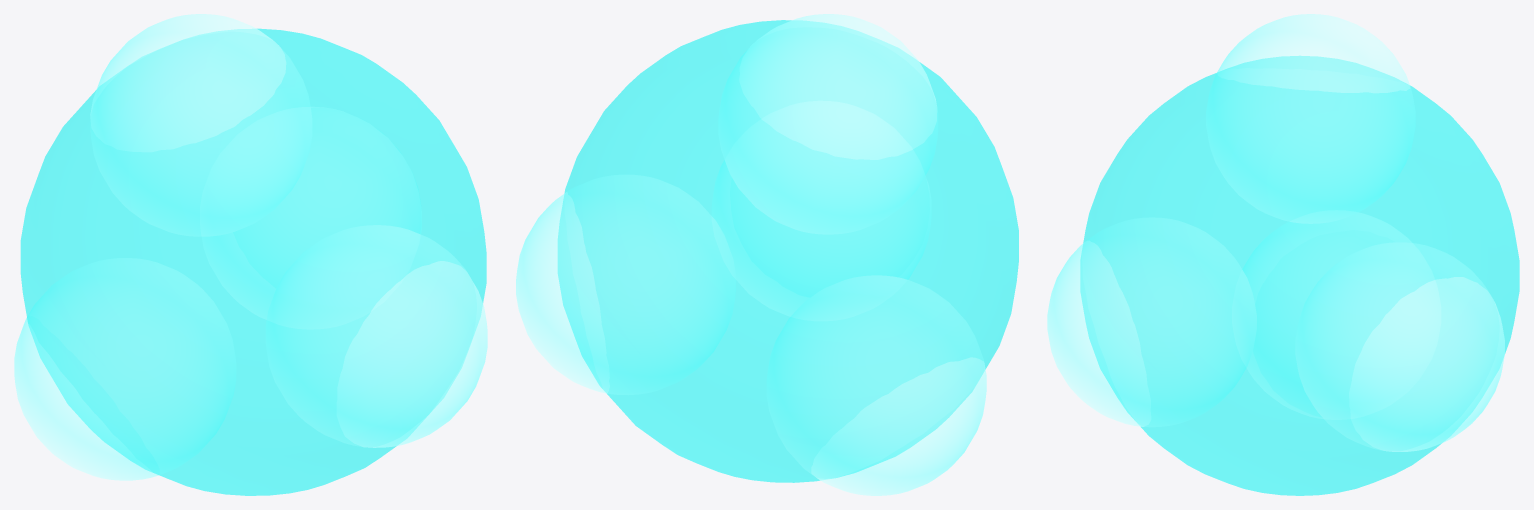
Rendered from MethaneSpheresV7.glb.
The picture shows the model from 3 angles, left to right: view 1: azimuth 30°, elevation 25°; view 2: azimuth 150°, elevation 25°; view 3: azimuth 270°, elevation 25°; orthographic projection. The views are drawn at different scales.
Parts seen in each view (by area): view 1: Carbon_ball.002, Hydrogen_ball.001, Hydrogen_ball.005, Hydrogen_ball.003, Hydrogen_ball.007; view 2: Carbon_ball.002, Hydrogen_ball.001, Hydrogen_ball.005, Hydrogen_ball.007, Hydrogen_ball.003; view 3: Carbon_ball.002, Hydrogen_ball.005, Hydrogen_ball.007, Hydrogen_ball.003, Hydrogen_ball.001.
Boxes of the visible parts, x1,y1,x2,y2 form: Carbon_ball.002: (20, 28, 486, 495); Hydrogen_ball.001: (14, 258, 235, 480); Hydrogen_ball.005: (90, 14, 311, 236); Hydrogen_ball.003: (266, 225, 487, 447); Hydrogen_ball.007: (202, 107, 421, 319); Carbon_ball.002: (558, 20, 1018, 482); Hydrogen_ball.001: (767, 275, 986, 495); Hydrogen_ball.005: (718, 14, 937, 234); Hydrogen_ball.007: (516, 175, 735, 394); Hydrogen_ball.003: (712, 160, 931, 316); Carbon_ball.002: (1080, 56, 1519, 495); Hydrogen_ball.005: (1206, 14, 1415, 223); Hydrogen_ball.007: (1295, 242, 1504, 451); Hydrogen_ball.003: (1047, 217, 1256, 426); Hydrogen_ball.001: (1242, 212, 1411, 418).
Bounding box in the file's own units: 2.97 × 3.15 × 3.13.
